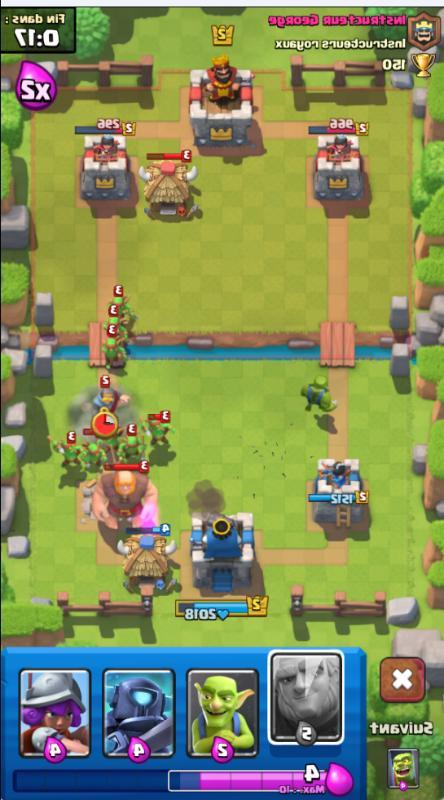enemy_giant: (85, 459, 161, 530)
enemy_goblin_hut: (137, 149, 202, 221)
enemy_knight: (86, 377, 128, 415)
enemy_spear_goblins: (142, 410, 178, 450), (52, 434, 86, 473), (98, 334, 131, 368), (79, 435, 108, 473), (119, 427, 148, 460), (106, 283, 135, 313), (98, 308, 127, 338)
player_caged_goblin: (292, 374, 341, 419)
player_goblin_hut: (117, 526, 182, 602)
